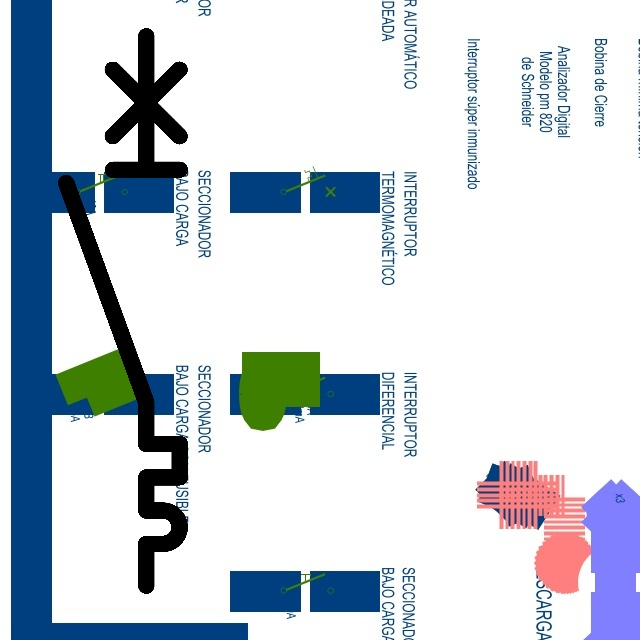interruptor_termomagnetico: (52, 22, 194, 600)
